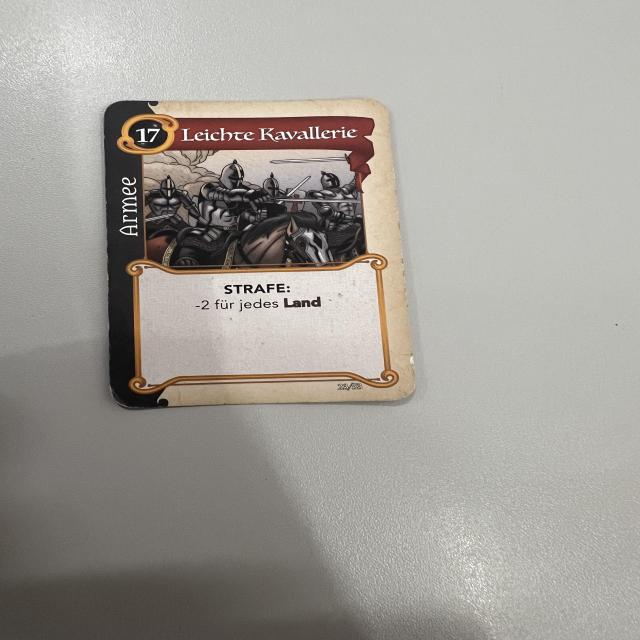Light Cavalry: (104, 97, 423, 413)
